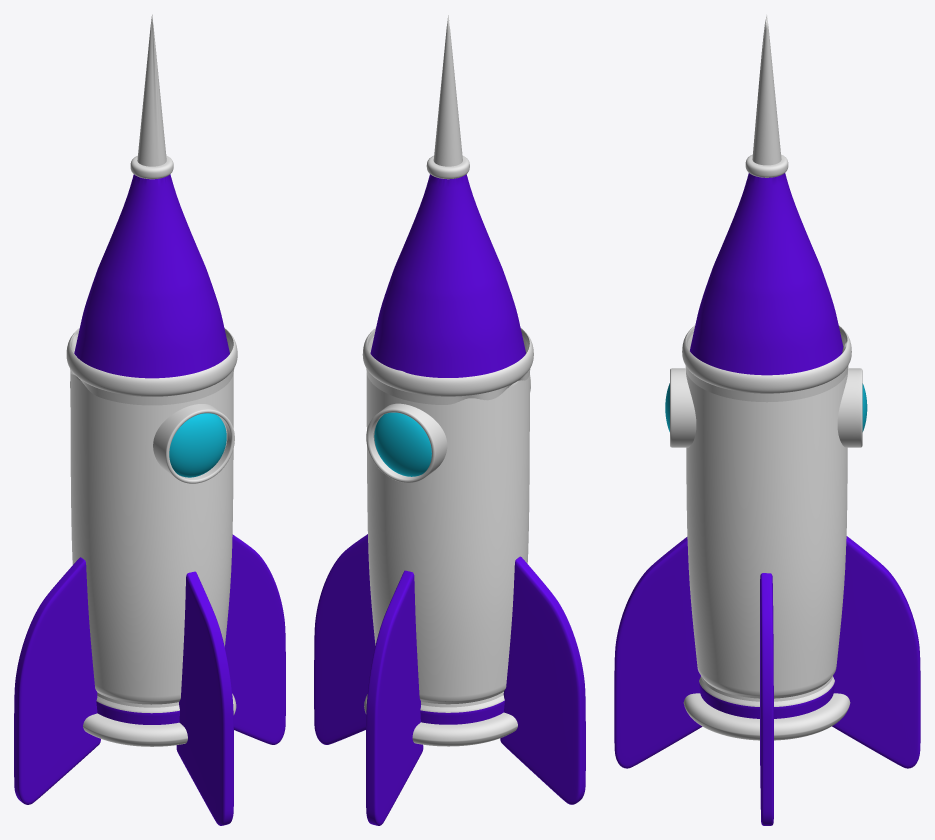
Rendered from FOGUETE.fbx.
3 renders of one model, left to right at view 1: azimuth 30°, elevation 25°; view 2: azimuth 150°, elevation 25°; view 3: azimuth 270°, elevation 25°, orthographic.
Parts seen in each view (by area): view 1: Cone.001, Cube.003, Sphere.003; view 2: Cone.001, Cube.003, Sphere.001; view 3: Cone.001, Cube.003, Sphere.003, Sphere.001.
Part boxes in pixels (left/top/right/bottom): Cone.001: left=66, top=14, right=237, bottom=746; Cube.003: left=14, top=534, right=285, bottom=825; Sphere.003: left=153, top=404, right=234, bottom=483; Cone.001: left=362, top=15, right=533, bottom=746; Cube.003: left=314, top=534, right=585, bottom=825; Sphere.001: left=366, top=403, right=447, bottom=482; Cone.001: left=682, top=15, right=851, bottom=740; Cube.003: left=614, top=536, right=920, bottom=825; Sphere.003: left=665, top=368, right=696, bottom=447; Sphere.001: left=837, top=368, right=867, bottom=447.
Bounding box in the file's own units: 446 × 1208 × 446.
